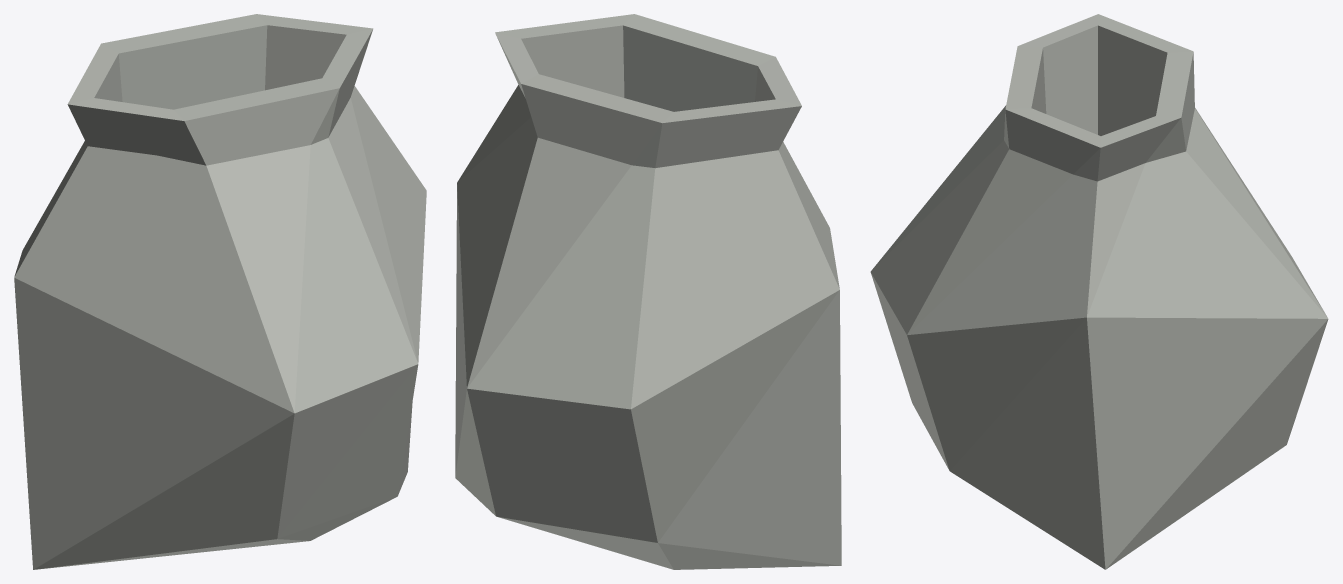
File: Bag_2.fbx
3 renders of one model, left to right at view 1: azimuth 30°, elevation 25°; view 2: azimuth 150°, elevation 25°; view 3: azimuth 270°, elevation 25°, orthographic. The views are drawn at different scales.
Parts seen in each view (by area): view 1: Bag_2; view 2: Bag_2; view 3: Bag_2.
Boxes of the visible parts, box(x1,y1,x2,y2) form: Bag_2: box(14, 14, 426, 569); Bag_2: box(455, 14, 841, 569); Bag_2: box(870, 14, 1328, 569).
Size of the model in its own units: 30.36 by 33.9 by 33.83.
1 material, 1 textured.
